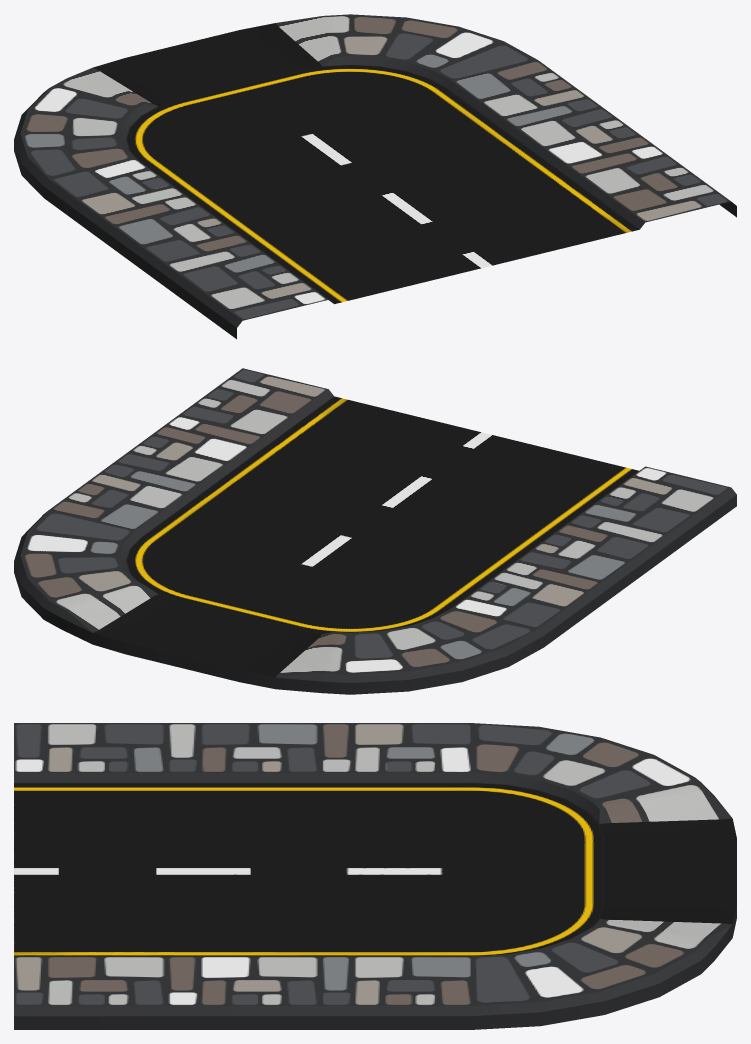
File: Road_End_1Driveways.fbx
3 renders of one model, top to bottom at view 1: azimuth 30°, elevation 25°; view 2: azimuth 150°, elevation 25°; view 3: azimuth 270°, elevation 25°, orthographic. The views are drawn at different scales.
Visible parts, largest first — view 1: Road_End_1Driveway; view 2: Road_End_1Driveway; view 3: Road_End_1Driveway.
Part boxes in pixels (x1,y1,x2,y2): Road_End_1Driveway: (14,14,736,339); Road_End_1Driveway: (14,368,736,694); Road_End_1Driveway: (14,723,736,1029).
Bounding box in the file's own units: 900 × 30 × 950.
